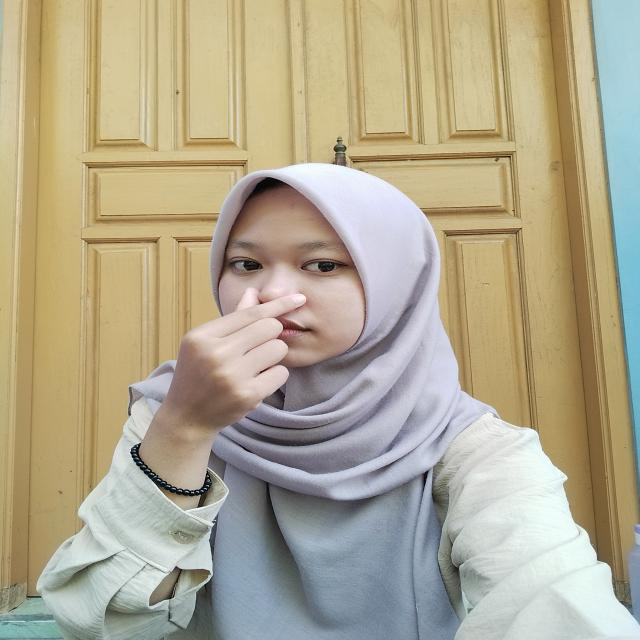bau: (155, 271, 314, 439)
